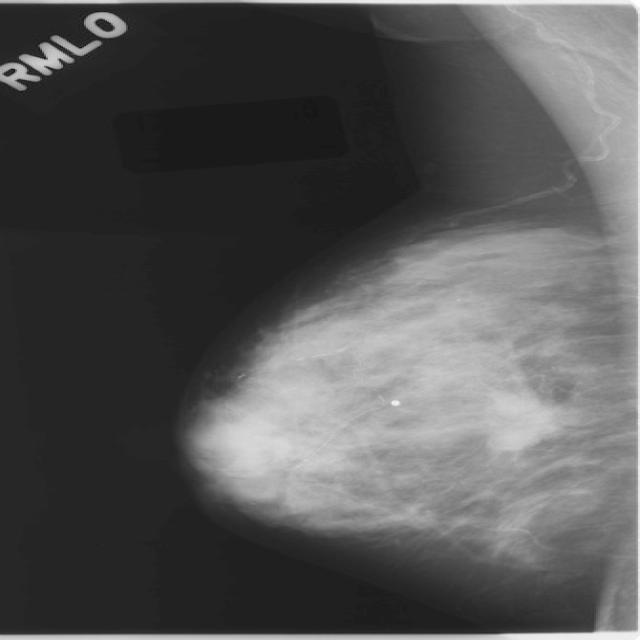tumour: (481, 390, 560, 449)
